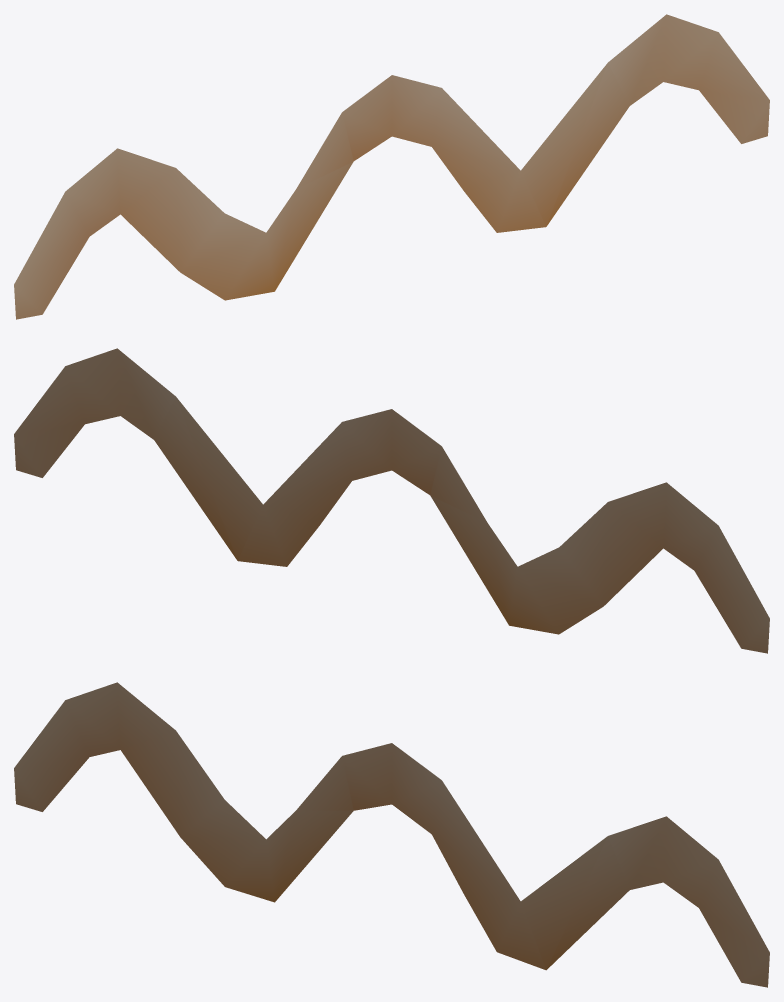
Rendered from CavePaintingSquiggle.glb.
3 views of the same model, one above another, from view 1: azimuth 30°, elevation 25°; view 2: azimuth 150°, elevation 25°; view 3: azimuth 330°, elevation 25° (orthographic).
Visible parts, largest first — view 1: CavePaintingSquiggle; view 2: CavePaintingSquiggle; view 3: CavePaintingSquiggle.
Part boxes in pixels (x1=…): CavePaintingSquiggle: x1=14, y1=14, x2=769, y2=319; CavePaintingSquiggle: x1=14, y1=348, x2=769, y2=653; CavePaintingSquiggle: x1=14, y1=682, x2=769, y2=987.
Size of the model in its own units: 0.2954 by 0.0709 by 4.77e-07.
